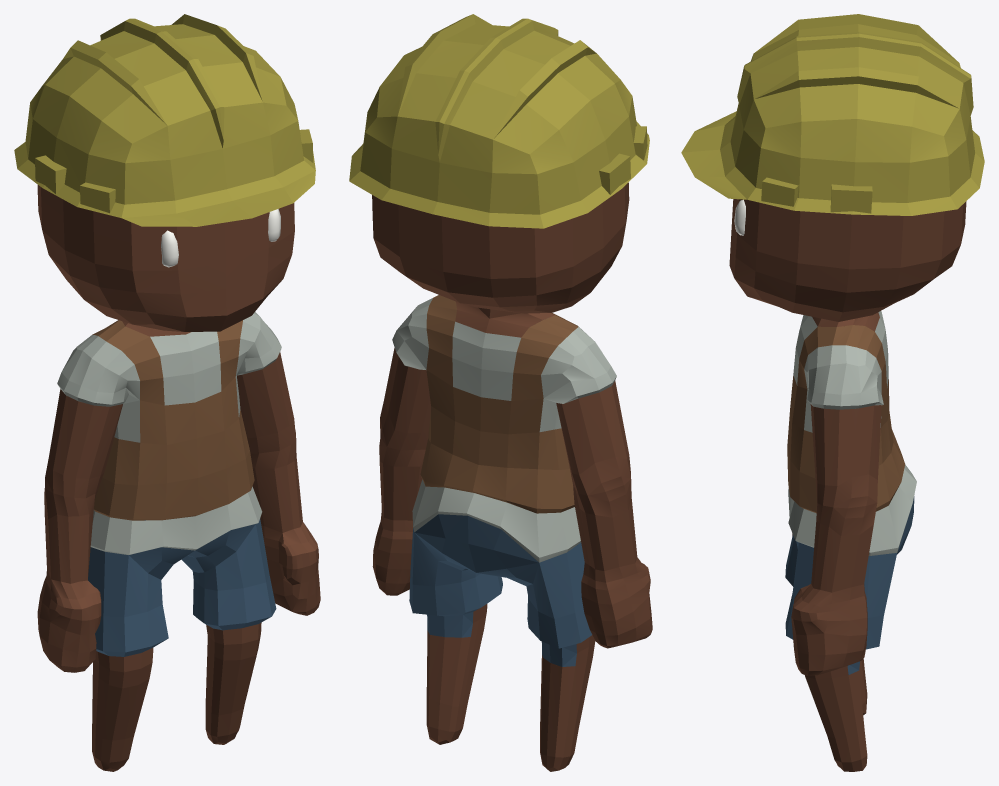
File: debout-worker-male.glb
The picture shows the model from 3 angles, left to right: view 1: azimuth 30°, elevation 25°; view 2: azimuth 150°, elevation 25°; view 3: azimuth 270°, elevation 25°; orthographic projection.
Visible parts, largest first — view 1: Cube004, Cube004_4, Cube004_2, Cube004_1, Cube004_3, Cube004_5; view 2: Cube004, Cube004_4, Cube004_2, Cube004_3, Cube004_1; view 3: Cube004_4, Cube004, Cube004_1, Cube004_2, Cube004_3.
Boxes of the visible parts, x1=… form: Cube004: x1=37, y1=185, x2=320, y2=771; Cube004_4: x1=14, y1=14, x2=315, y2=226; Cube004_2: x1=92, y1=320, x2=254, y2=520; Cube004_1: x1=57, y1=312, x2=281, y2=554; Cube004_3: x1=88, y1=518, x2=276, y2=656; Cube004_5: x1=161, y1=209, x2=280, y2=267; Cube004: x1=372, y1=182, x2=652, y2=771; Cube004_4: x1=349, y1=14, x2=649, y2=228; Cube004_2: x1=420, y1=295, x2=578, y2=513; Cube004_3: x1=409, y1=514, x2=592, y2=666; Cube004_1: x1=392, y1=298, x2=616, y2=562; Cube004_4: x1=681, y1=14, x2=984, y2=215; Cube004: x1=729, y1=199, x2=966, y2=771; Cube004_1: x1=788, y1=311, x2=916, y2=555; Cube004_2: x1=787, y1=325, x2=905, y2=513; Cube004_3: x1=785, y1=496, x2=914, y2=674.
Size of the model in its own units: 0.6926 by 1.76 by 0.6834.
